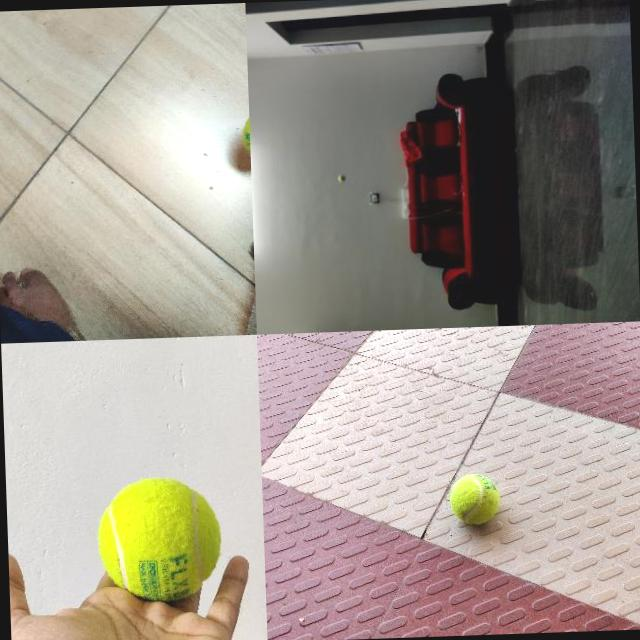Tennis Ball: (94, 474, 224, 604), (450, 472, 500, 524), (338, 174, 345, 181)
